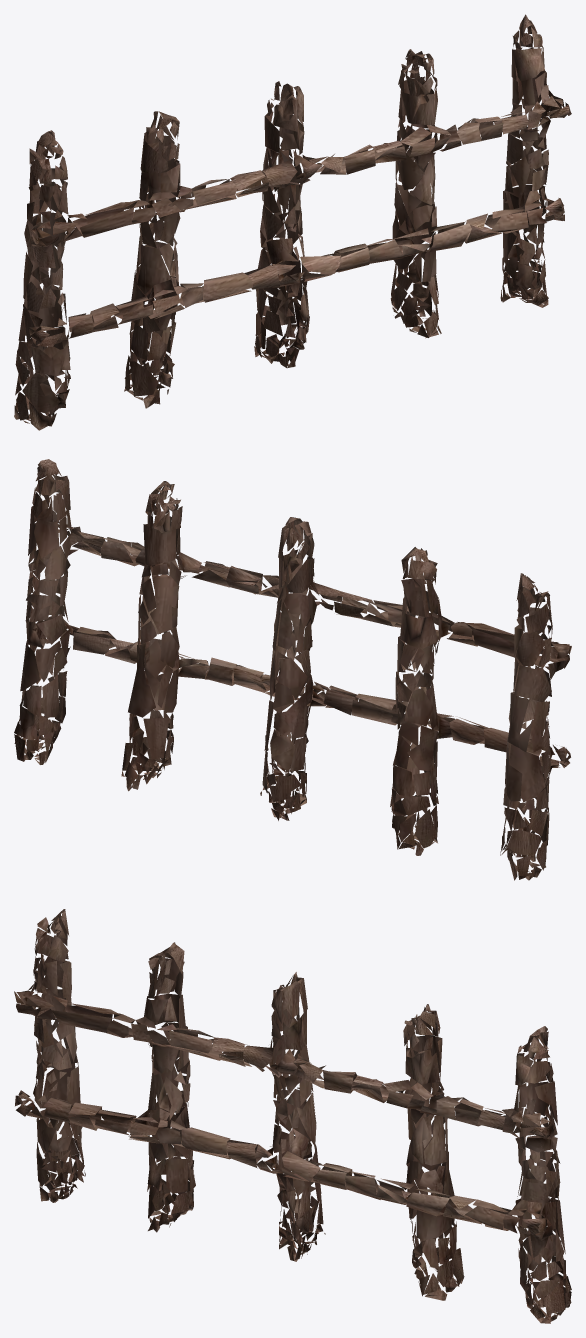
Rendered from fence-b.glb.
The picture shows the model from 3 angles, top to bottom: view 1: azimuth 30°, elevation 25°; view 2: azimuth 150°, elevation 25°; view 3: azimuth 330°, elevation 25°; orthographic projection.
Visible parts, largest first — view 1: Mesh_0; view 2: Mesh_0; view 3: Mesh_0.
Part boxes in pixels (left/top/right/bottom): Mesh_0: left=14, top=14, right=571, bottom=430; Mesh_0: left=14, top=459, right=571, bottom=880; Mesh_0: left=14, top=909, right=571, bottom=1323.
Bounding box in the file's own units: 3.01 × 1.59 × 0.4025.
1 material, 1 textured.
